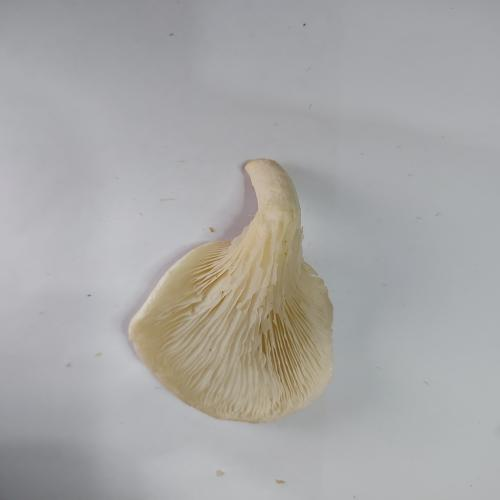Oyster Mushroom: (127, 158, 335, 424)
